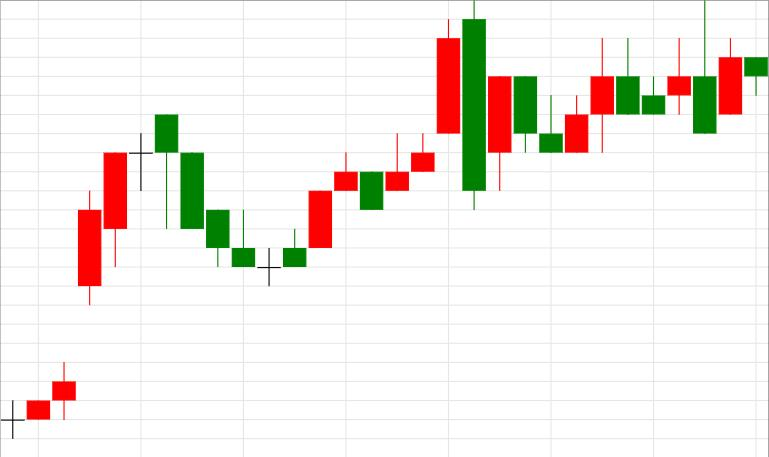bearish_engulfing_fall: (309, 1, 485, 247)
hanging_man_fall: (1, 115, 178, 441)
